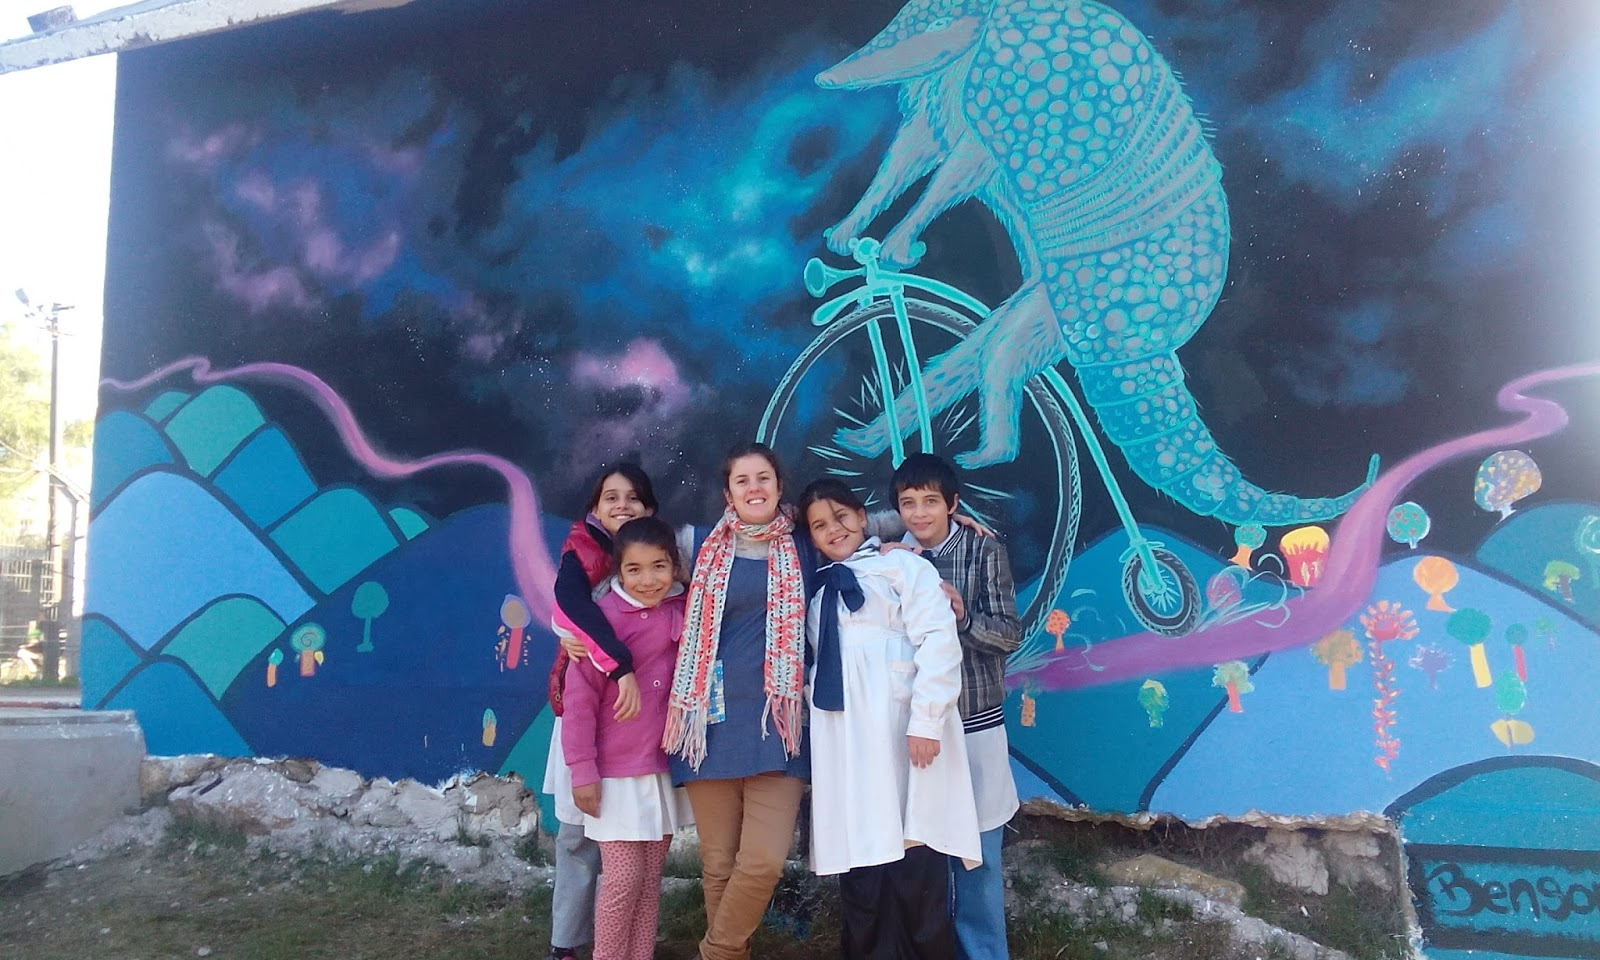person: (795, 474, 950, 781), (562, 521, 702, 783), (680, 447, 802, 678)
